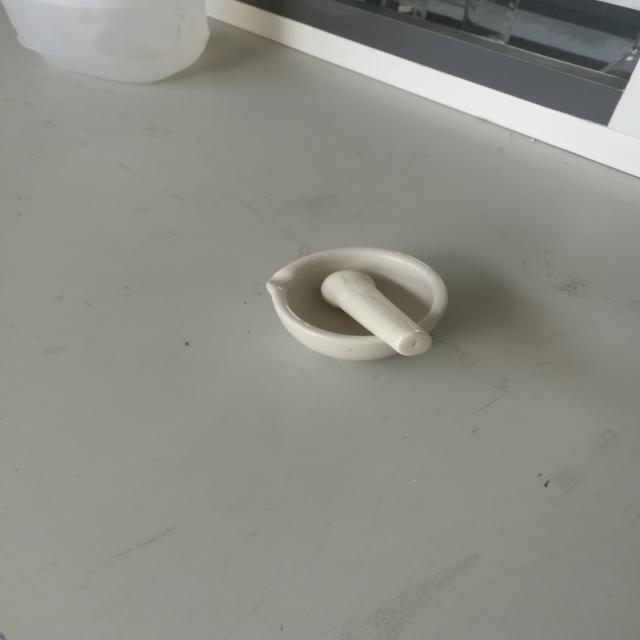Porcelain_Mortar Pestle: (237, 217, 487, 398)
